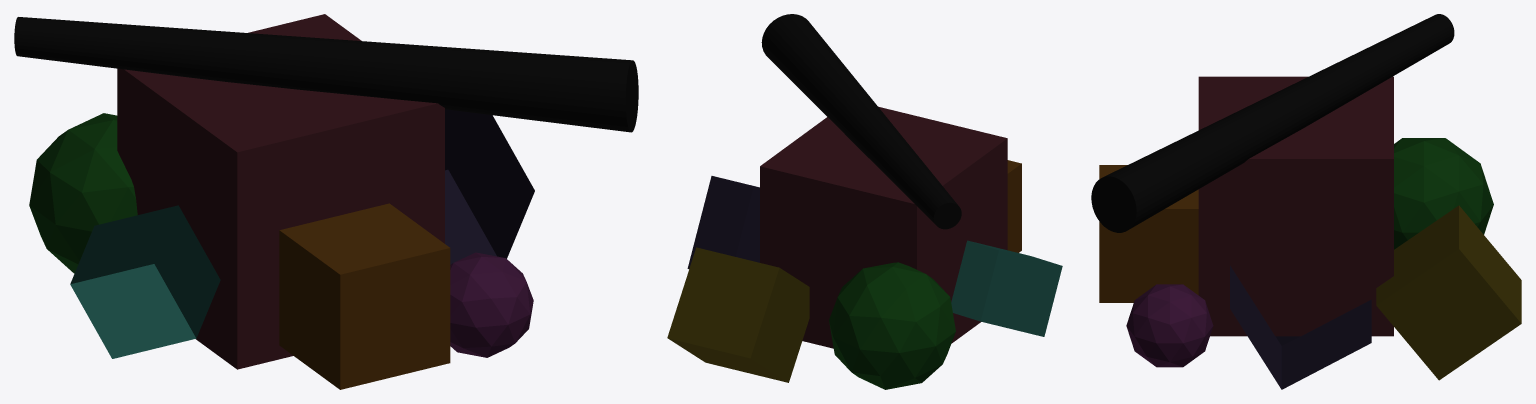
Rendered from Scrap.fbx.
The picture shows the model from 3 angles, left to right: view 1: azimuth 30°, elevation 25°; view 2: azimuth 150°, elevation 25°; view 3: azimuth 270°, elevation 25°; orthographic projection. The views are drawn at different scales.
Parts seen in each view (by area): view 1: Scrap01; view 2: Scrap01; view 3: Scrap01.
Boxes of the visible parts, <box> form: Scrap01: <box>14,14,638,389</box>; Scrap01: <box>667,14,1062,389</box>; Scrap01: <box>1091,14,1521,389</box>.
Bounding box in the file's own units: 433 × 270 × 440.
